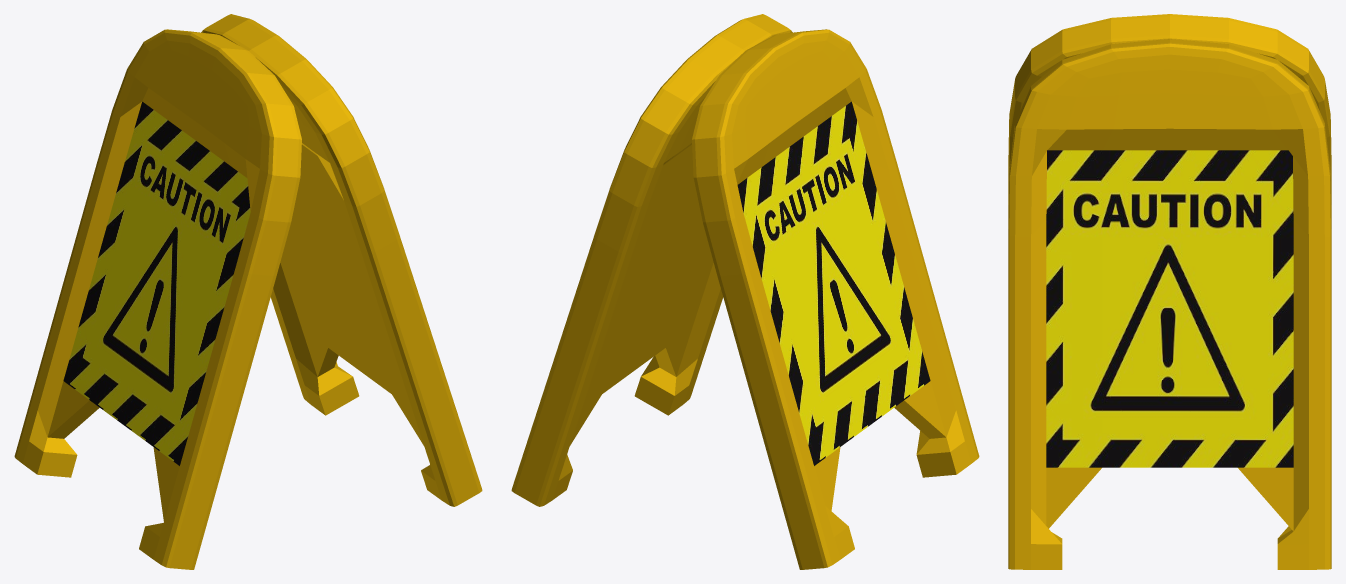
File: Coution.fbx
3 views of the same model, side by side, from view 1: azimuth 30°, elevation 25°; view 2: azimuth 150°, elevation 25°; view 3: azimuth 270°, elevation 25° (orthographic). The views are drawn at different scales.
Parts seen in each view (by area): view 1: Cube, Cube.001; view 2: Cube, Cube.001; view 3: Cube.001, Cube.
Boxes of the visible parts, x1,y1,x2,y2 form: Cube: (14,29,301,569); Cube.001: (201,14,482,506); Cube: (692,29,979,569); Cube.001: (511,14,792,506); Cube.001: (1008,39,1331,569); Cube: (1008,14,1331,224).
Size of the model in its own units: 244 by 321 by 200.
2 materials, 1 textured.
